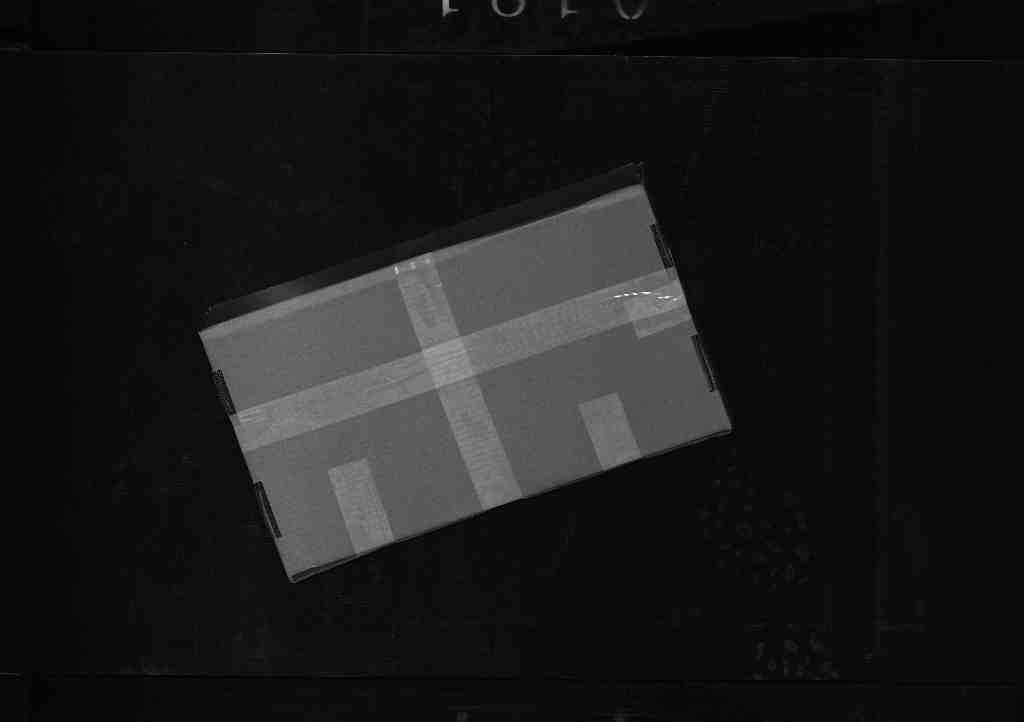box: (182, 163, 742, 587)
